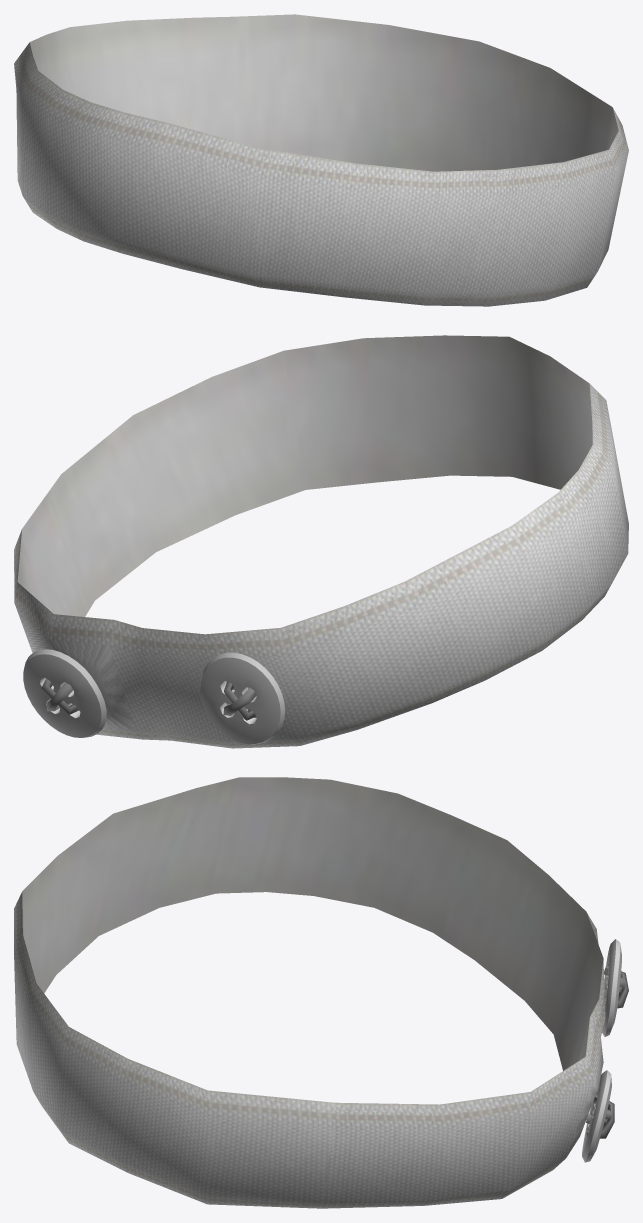
Rendered from fixation_buttons.fbx.
3 renders of one model, top to bottom at view 1: azimuth 30°, elevation 25°; view 2: azimuth 150°, elevation 25°; view 3: azimuth 270°, elevation 25°, orthographic. The views are drawn at different scales.
Parts seen in each view (by area): view 1: fixation_buttons; view 2: fixation_buttons; view 3: fixation_buttons.
Part boxes in pixels (left/top/right/bottom): fixation_buttons: left=14, top=14, right=628, bottom=306; fixation_buttons: left=14, top=335, right=628, bottom=748; fixation_buttons: left=14, top=777, right=628, bottom=1208.
Bounding box in the file's own units: 0.2175 × 0.1001 × 0.2326.
